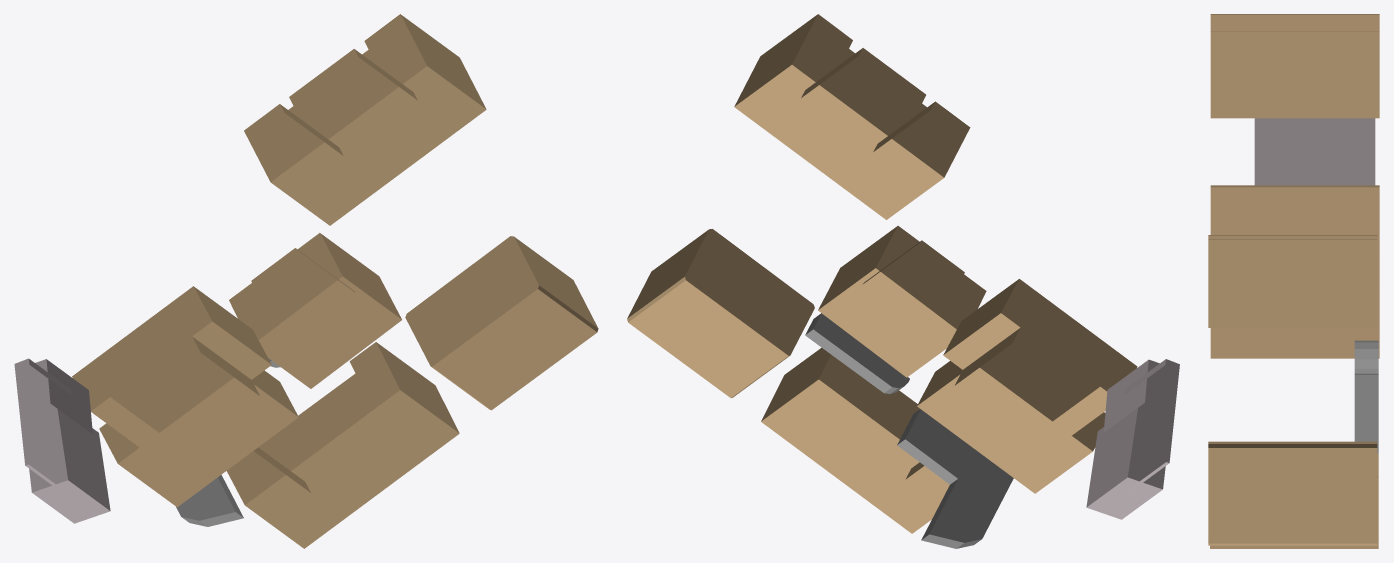
3 renders of one model, left to right at view 1: azimuth 30°, elevation 25°; view 2: azimuth 150°, elevation 25°; view 3: azimuth 270°, elevation 25°, orthographic. The views are drawn at different scales.
Parts seen in each view (by area): view 1: 0_1_0_2_2_1_1_1; view 2: 0_1_0_2_2_1_1_1; view 3: 0_1_0_2_2_1_1_1.
Boxes of the visible parts, x1,y1,x2,y2 form: 0_1_0_2_2_1_1_1: (14,14,598,548); 0_1_0_2_2_1_1_1: (627,14,1179,548); 0_1_0_2_2_1_1_1: (1208,14,1379,548).
Size of the model in its own units: 107 by 89.09 by 21.3.
